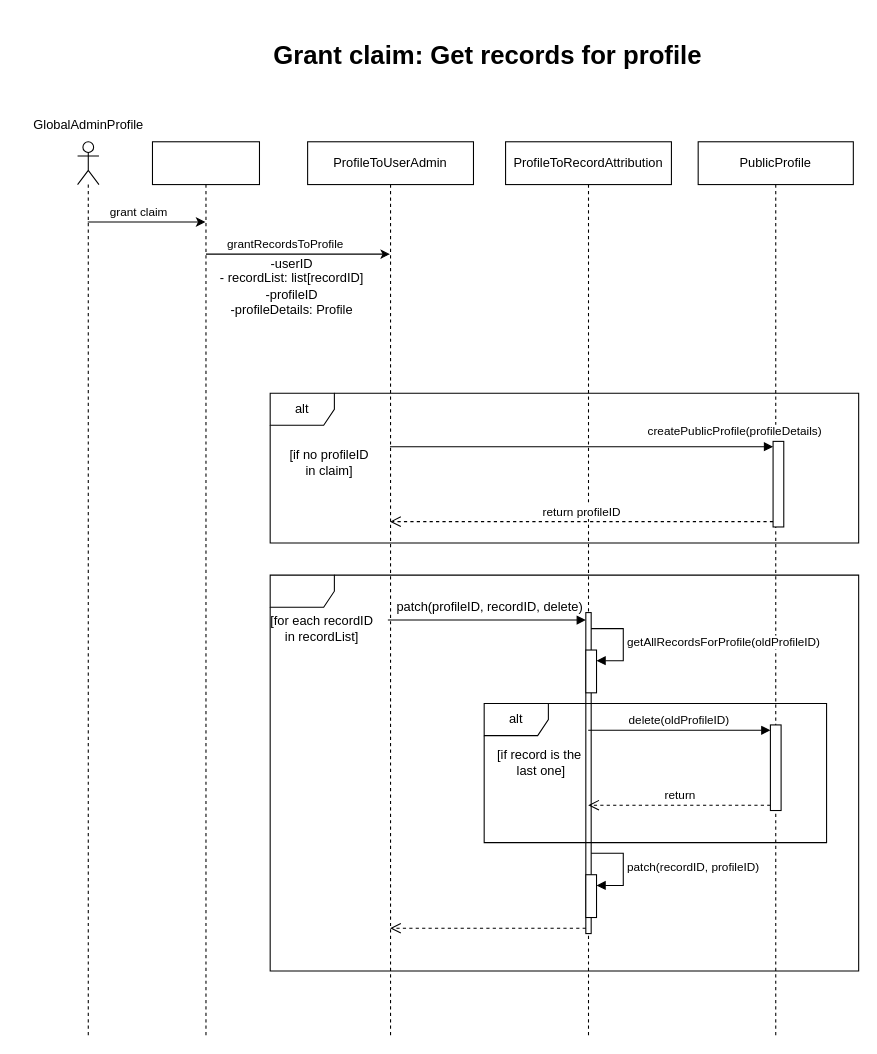
This 877x1054 diagram has some shape labels left out. The shapes that lost their labels are listed below. From the top down, each one's box as (x1, y1, x2, y2) in pixels, then its label:
(151, 141, 259, 1035): Claim
(269, 574, 859, 971): loop
